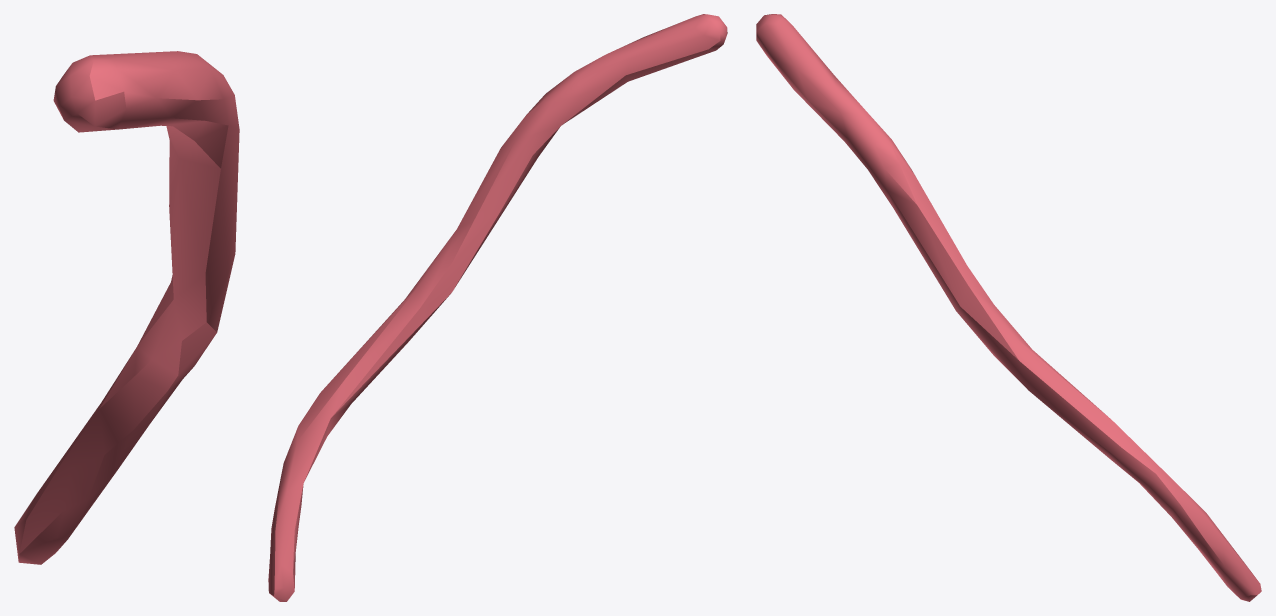
File: fma66403_fj2660.glb
The picture shows the model from 3 angles, left to right: view 1: azimuth 30°, elevation 25°; view 2: azimuth 150°, elevation 25°; view 3: azimuth 270°, elevation 25°; orthographic projection. The views are drawn at different scales.
Visible parts, largest first — view 1: FMA66403_FJ2660; view 2: FMA66403_FJ2660; view 3: FMA66403_FJ2660.
Part boxes in pixels (x1,y1,x2,y2): FMA66403_FJ2660: [14, 51, 239, 564]; FMA66403_FJ2660: [268, 14, 727, 601]; FMA66403_FJ2660: [756, 14, 1261, 601].
Bounding box in the file's own units: 0.00693 × 0.0126 × 0.0119.
